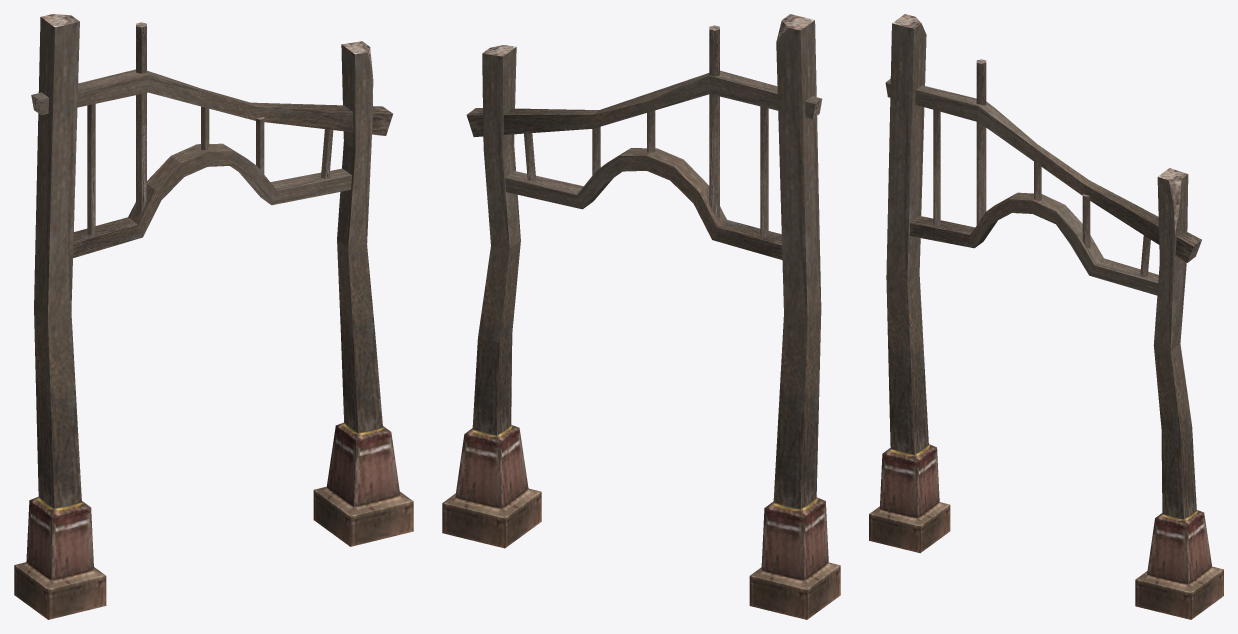
The model's file is bg_anh_mirrorv_dc02_sm_ysi.FBX.
The picture shows the model from 3 angles, left to right: view 1: azimuth 30°, elevation 25°; view 2: azimuth 150°, elevation 25°; view 3: azimuth 330°, elevation 25°; orthographic projection. The views are drawn at different scales.
Parts seen in each view (by area): view 1: bg_anh_mirrorv_dc02_sm_ysi; view 2: bg_anh_mirrorv_dc02_sm_ysi; view 3: bg_anh_mirrorv_dc02_sm_ysi.
Part boxes in pixels (x1,y1,x2,y2): bg_anh_mirrorv_dc02_sm_ysi: (14, 14, 413, 619); bg_anh_mirrorv_dc02_sm_ysi: (442, 14, 840, 619); bg_anh_mirrorv_dc02_sm_ysi: (869, 14, 1223, 619).
Bounding box in the file's own units: 200 × 304 × 34.97.
